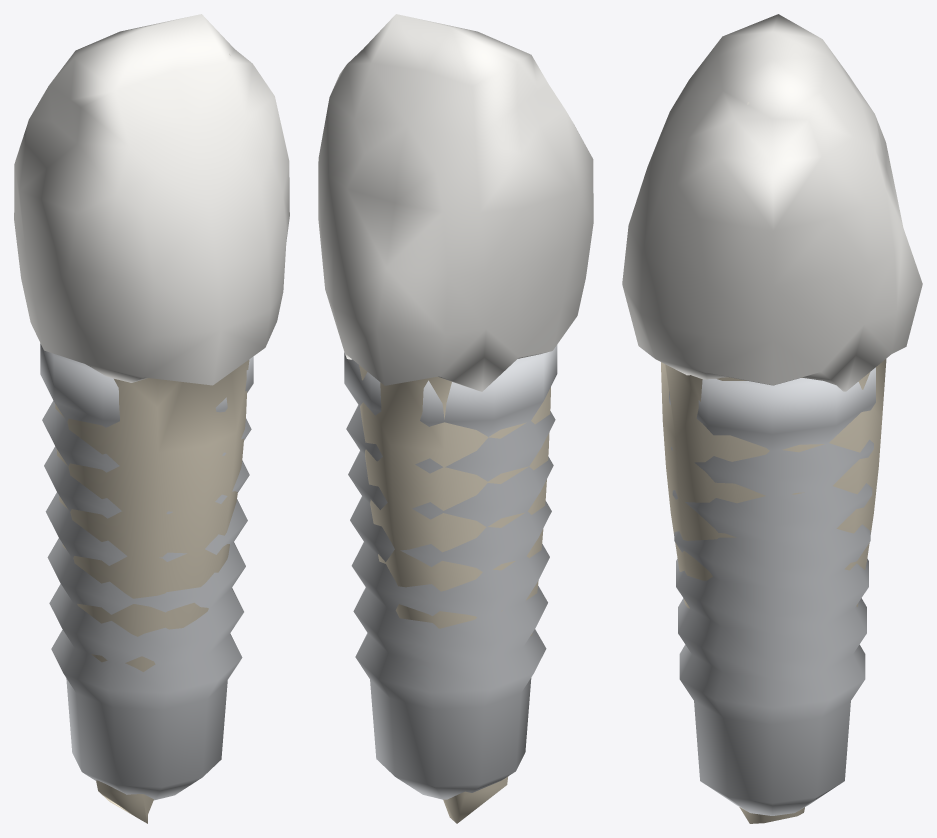
3 views of the same model, side by side, from view 1: azimuth 30°, elevation 25°; view 2: azimuth 150°, elevation 25°; view 3: azimuth 270°, elevation 25° (orthographic).
Visible parts, largest first — view 1: crown, implant, root; view 2: crown, implant, root; view 3: crown, implant, root.
Boxes of the visible parts, bbox=[...] form: crown: bbox=[14, 14, 289, 385]; implant: bbox=[40, 343, 253, 800]; root: bbox=[55, 360, 249, 823]; crown: bbox=[318, 14, 593, 391]; implant: bbox=[344, 345, 557, 799]; root: bbox=[359, 365, 550, 823]; crown: bbox=[622, 14, 922, 391]; implant: bbox=[669, 367, 875, 815]; root: bbox=[661, 359, 886, 823].
Bounding box in the file's own units: 4.64 × 13.75 × 4.7.
